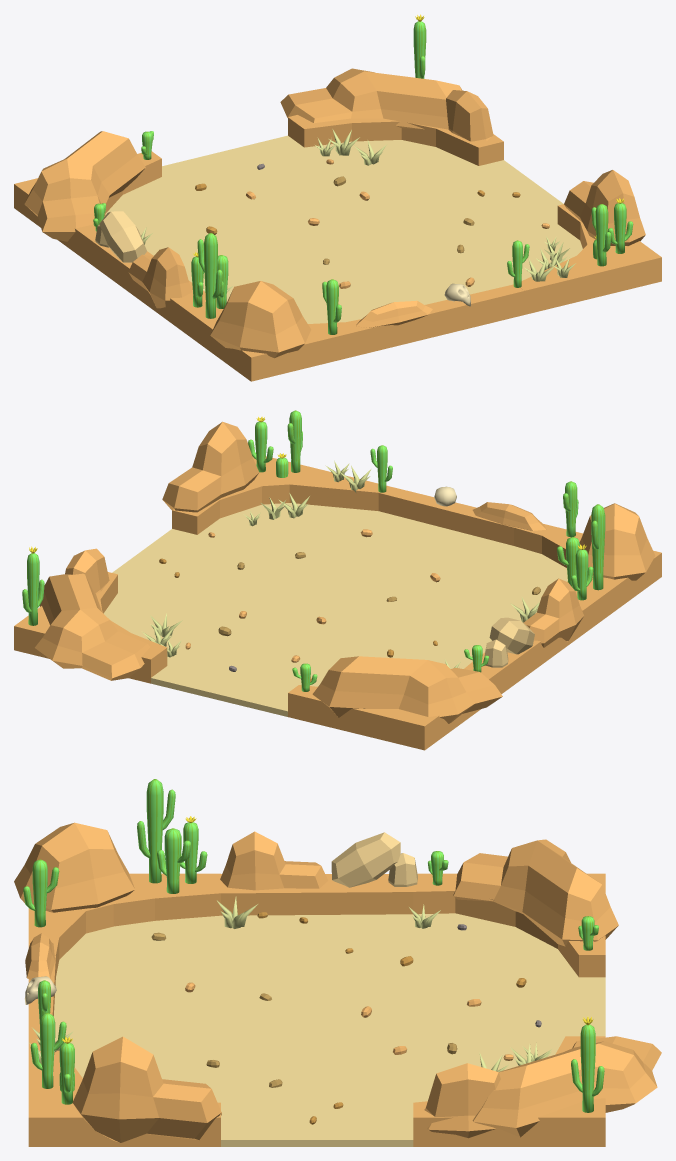
File: desert level set - 2 Way (3).fbx
The picture shows the model from 3 angles, top to bottom: view 1: azimuth 30°, elevation 25°; view 2: azimuth 150°, elevation 25°; view 3: azimuth 270°, elevation 25°; orthographic projection. The views are drawn at different scales.
Visible parts, largest first — view 1: land_platform_001, Cube_004, Cube_008, Cube_005, Cube_009, Cube_001, Cube_006, Cube_007, CACTUS_010, Cube_000, CACTUS_009, CACTUS_001 (+4 smaller); view 2: land_platform_001, Cube_004, Cube_008, Cube_009, Cube_005, Cube_001, Cube_007, Cube_000, Cube_006, CACTUS_005, CACTUS_010, CACTUS_001 (+5 smaller); view 3: land_platform_001, Cube_009, Cube_004, Cube_008, Cube_005, Cube_001, Cube_006, Cube_007, CACTUS_010, CACTUS_005, CACTUS_009, CACTUS_006 (+4 smaller).
Boxes of the visible parts, bbox=[...] form: land_platform_001: bbox=[14, 115, 661, 381]; Cube_004: bbox=[24, 131, 145, 241]; Cube_008: bbox=[280, 68, 462, 129]; Cube_005: bbox=[210, 281, 311, 358]; Cube_009: bbox=[564, 170, 645, 245]; Cube_001: bbox=[128, 247, 192, 308]; Cube_006: bbox=[446, 90, 493, 141]; Cube_007: bbox=[95, 211, 146, 262]; CACTUS_010: bbox=[197, 233, 222, 318]; Cube_000: bbox=[355, 300, 432, 327]; CACTUS_009: bbox=[591, 204, 611, 266]; CACTUS_001: bbox=[607, 198, 633, 253]; land_platform_001: bbox=[14, 456, 661, 750]; Cube_004: bbox=[312, 656, 502, 723]; Cube_008: bbox=[35, 573, 149, 680]; Cube_009: bbox=[162, 421, 259, 512]; Cube_005: bbox=[579, 503, 655, 580]; Cube_001: bbox=[523, 578, 583, 647]; Cube_007: bbox=[484, 617, 534, 667]; Cube_000: bbox=[472, 502, 546, 530]; Cube_006: bbox=[65, 548, 109, 594]; CACTUS_005: bbox=[22, 546, 44, 625]; CACTUS_010: bbox=[591, 504, 605, 590]; CACTUS_001: bbox=[248, 416, 273, 472]; land_platform_001: bbox=[28, 873, 605, 1146]; Cube_009: bbox=[72, 1036, 221, 1142]; Cube_004: bbox=[453, 839, 618, 946]; Cube_008: bbox=[472, 1036, 661, 1137]; Cube_005: bbox=[14, 822, 134, 912]; Cube_001: bbox=[220, 831, 328, 890]; Cube_006: bbox=[424, 1063, 500, 1138]; Cube_007: bbox=[331, 832, 417, 887]; CACTUS_010: bbox=[137, 779, 175, 883]; CACTUS_005: bbox=[571, 1016, 604, 1112]; CACTUS_009: bbox=[30, 1013, 66, 1088]; CACTUS_006: bbox=[157, 828, 190, 893].
Size of the model in its own units: 16.67 by 3.86 by 17.05.
